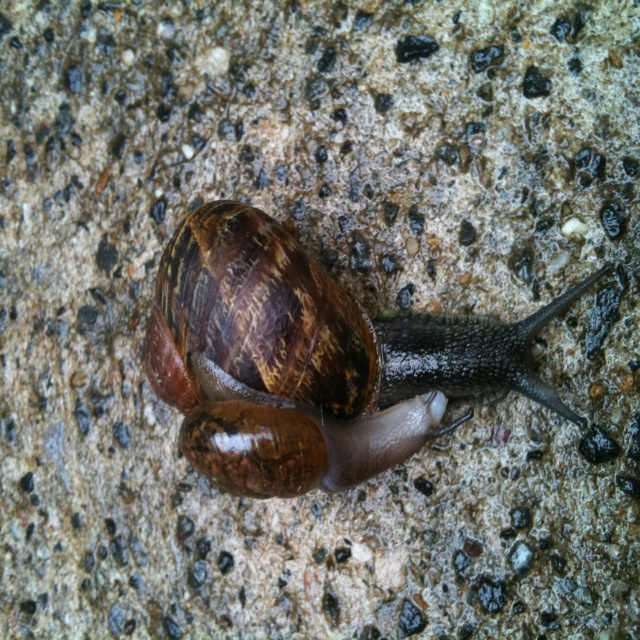Snail: (138, 199, 613, 499), (177, 363, 475, 506)
